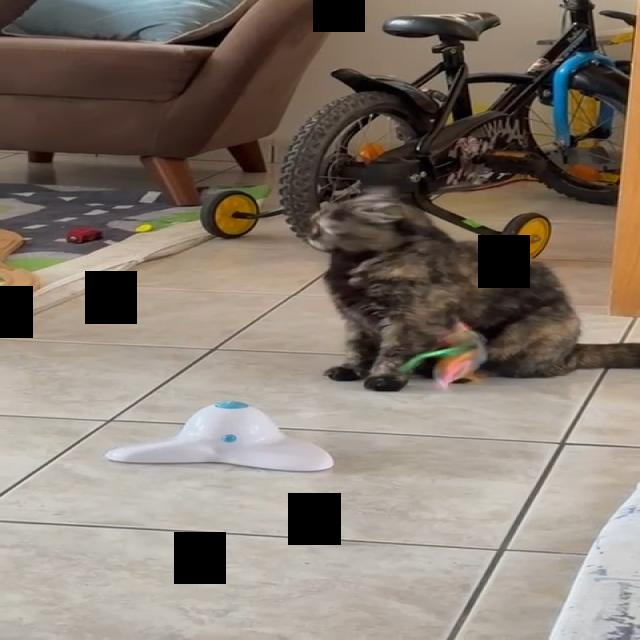authorized: (302, 192, 638, 392)
